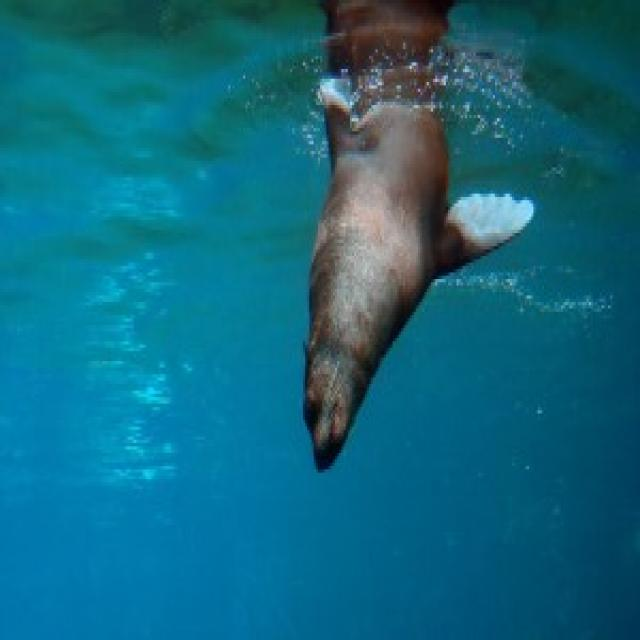Seal: (298, 0, 536, 483)
